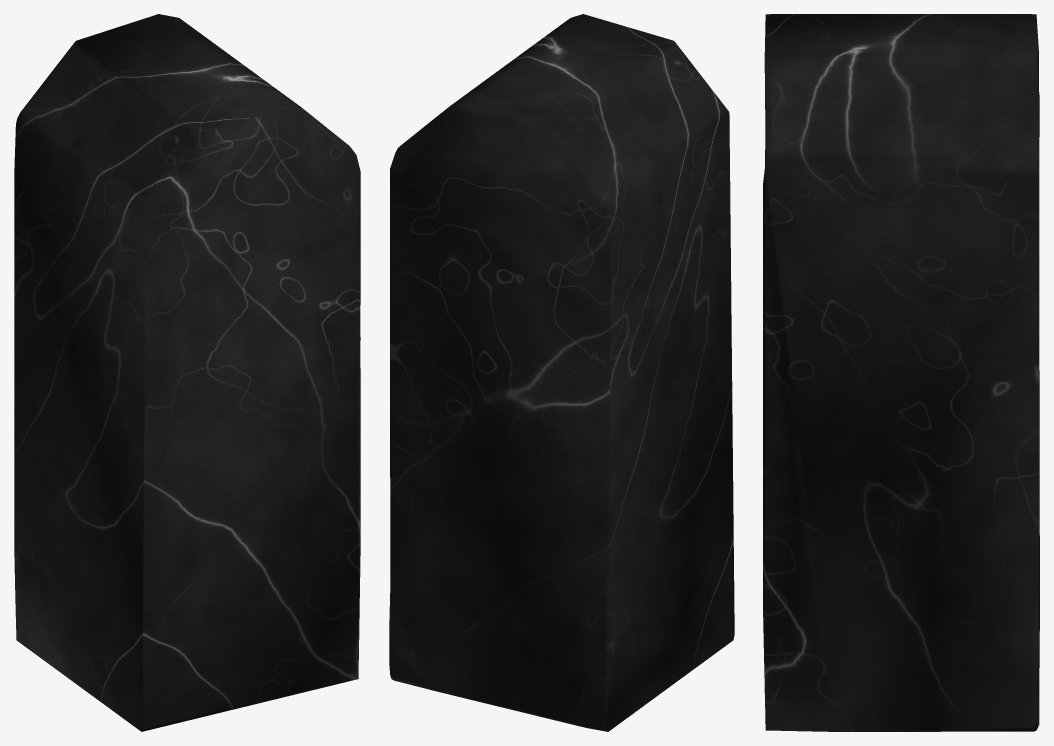
The model's file is pawn-black.glb.
The picture shows the model from 3 angles, left to right: view 1: azimuth 30°, elevation 25°; view 2: azimuth 150°, elevation 25°; view 3: azimuth 270°, elevation 25°; orthographic projection. The views are drawn at different scales.
Parts seen in each view (by area): view 1: pesec_cerny; view 2: pesec_cerny; view 3: pesec_cerny.
Part boxes in pixels (box(x1,y1,x2,y2)): pesec_cerny: box(14, 14, 360, 731); pesec_cerny: box(389, 14, 734, 731); pesec_cerny: box(763, 14, 1039, 731).
Size of the model in its own units: 0.4254 by 1.09 by 0.4248.
1 material, 1 textured.
